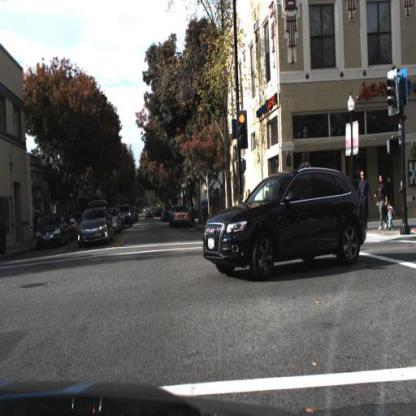car: (202, 168, 370, 286), (76, 206, 114, 252), (33, 215, 68, 252), (109, 205, 123, 241), (171, 203, 191, 228), (112, 207, 125, 235), (122, 203, 135, 230)
pedestrian: (355, 167, 376, 223), (373, 171, 388, 233), (375, 164, 387, 234), (384, 199, 400, 235)
trafficLight: (237, 112, 249, 153)
